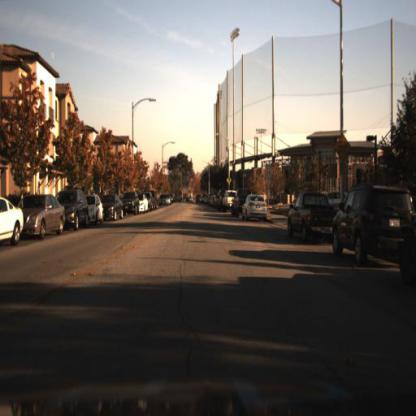car: (326, 180, 416, 264), (285, 190, 334, 241), (17, 191, 66, 239), (24, 192, 66, 238), (57, 189, 90, 231), (2, 194, 25, 247), (241, 194, 268, 222), (101, 193, 123, 223), (120, 188, 141, 218), (122, 190, 143, 220), (86, 195, 106, 225), (101, 193, 123, 219), (90, 190, 106, 224), (140, 191, 152, 217)
